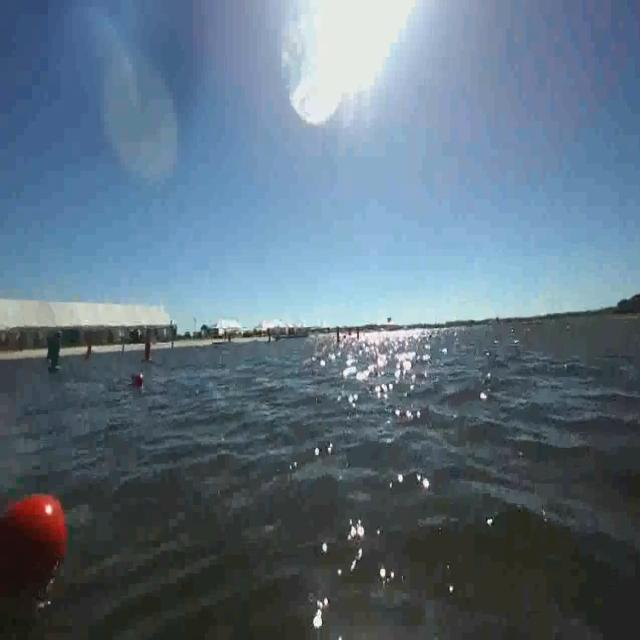green-column-buoy: (46, 334, 62, 374)
red-buoy: (7, 494, 68, 546), (134, 373, 144, 388)
red-column-buoy: (143, 335, 153, 365), (85, 338, 94, 361)
